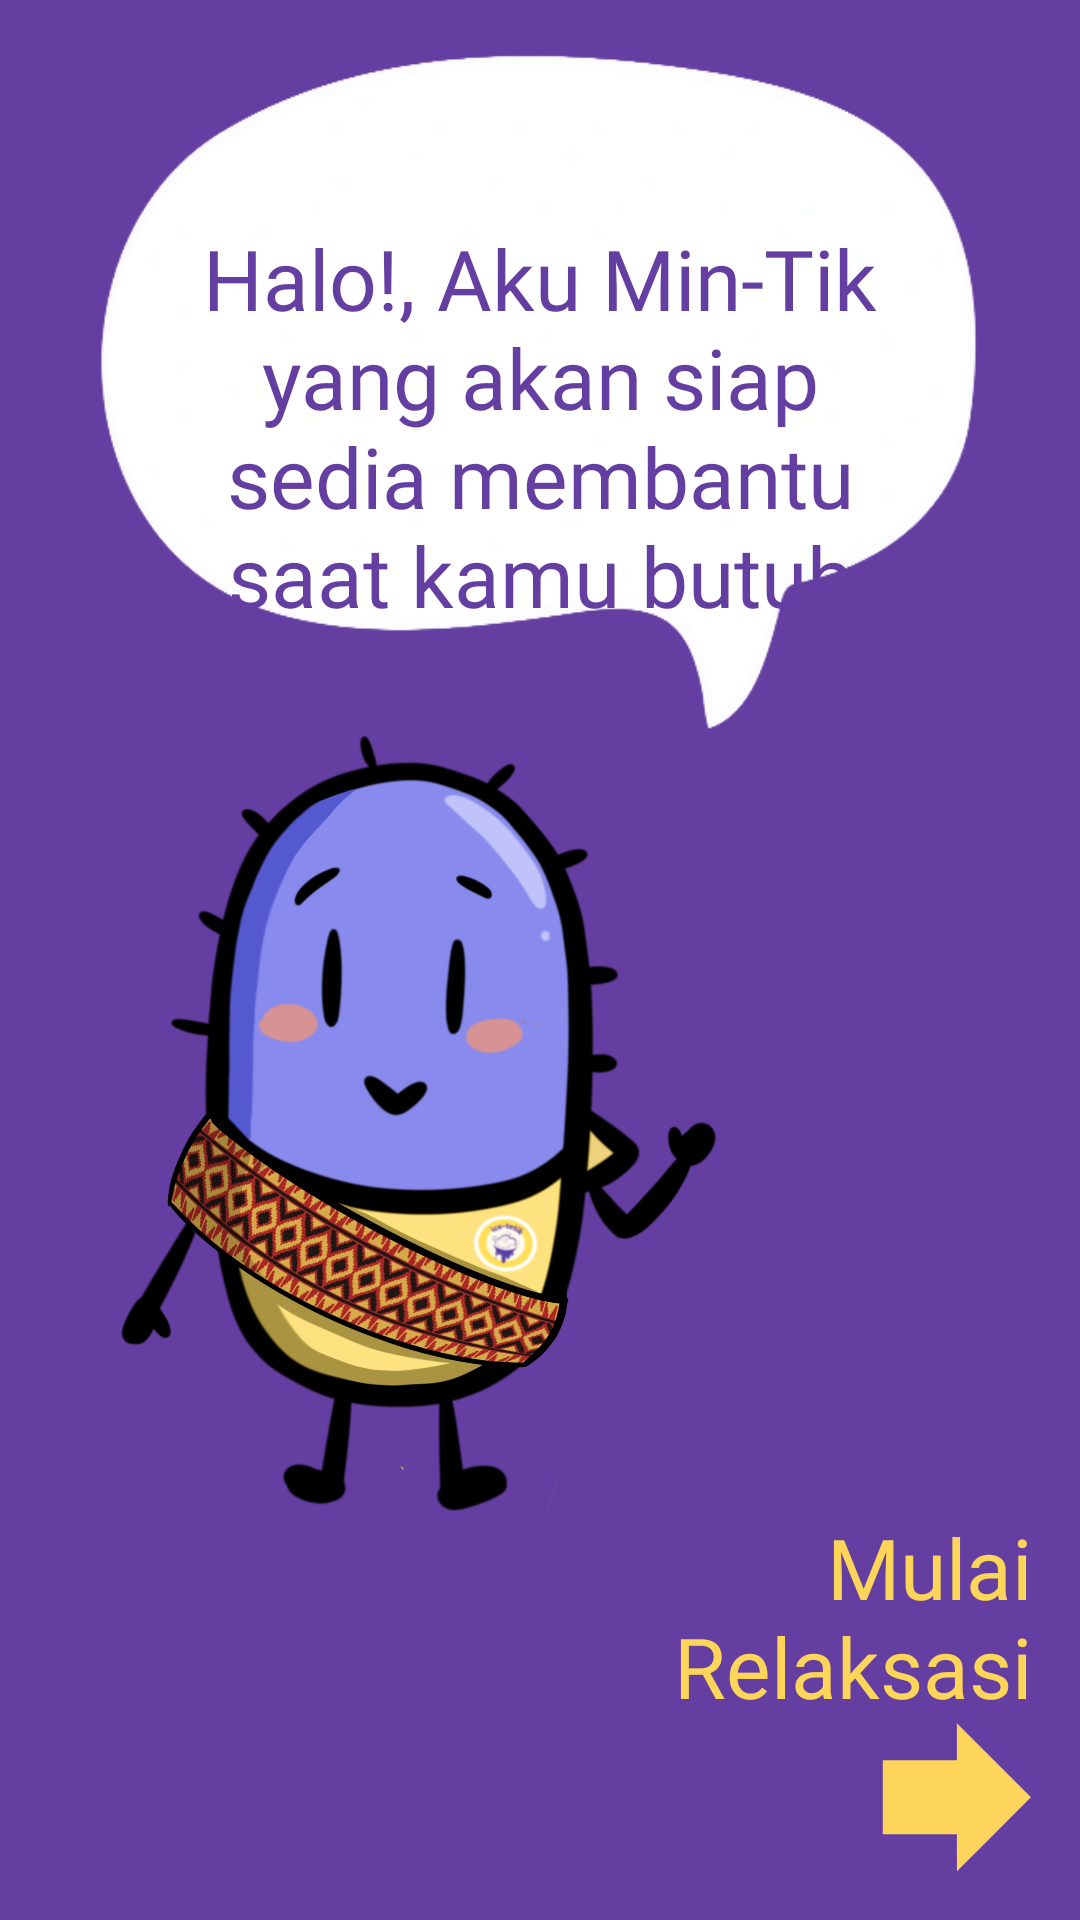

Screen size 1080 × 1920. Icon name, then its box in pixels as (x1, y1, x2, y2):
Icon halaman selanjutnya: (882, 1723, 1031, 1871)
